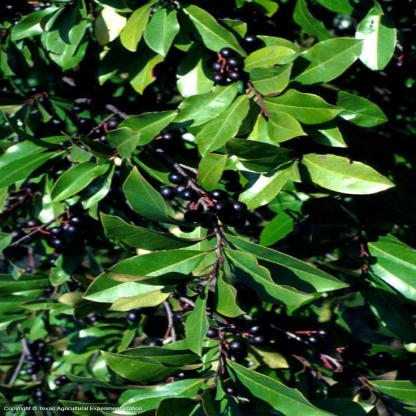cherry leaf: (229, 236, 339, 320), (86, 247, 214, 298), (293, 148, 389, 201), (84, 216, 205, 256), (38, 158, 112, 206)
